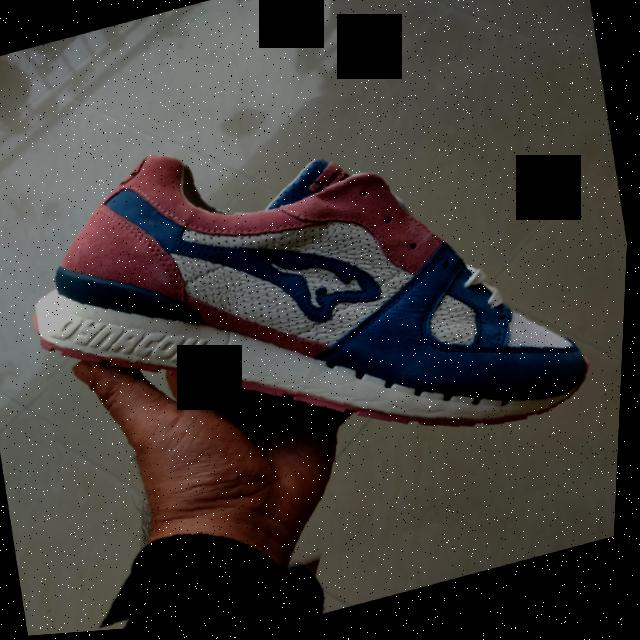shoe: (2, 30, 638, 639)
